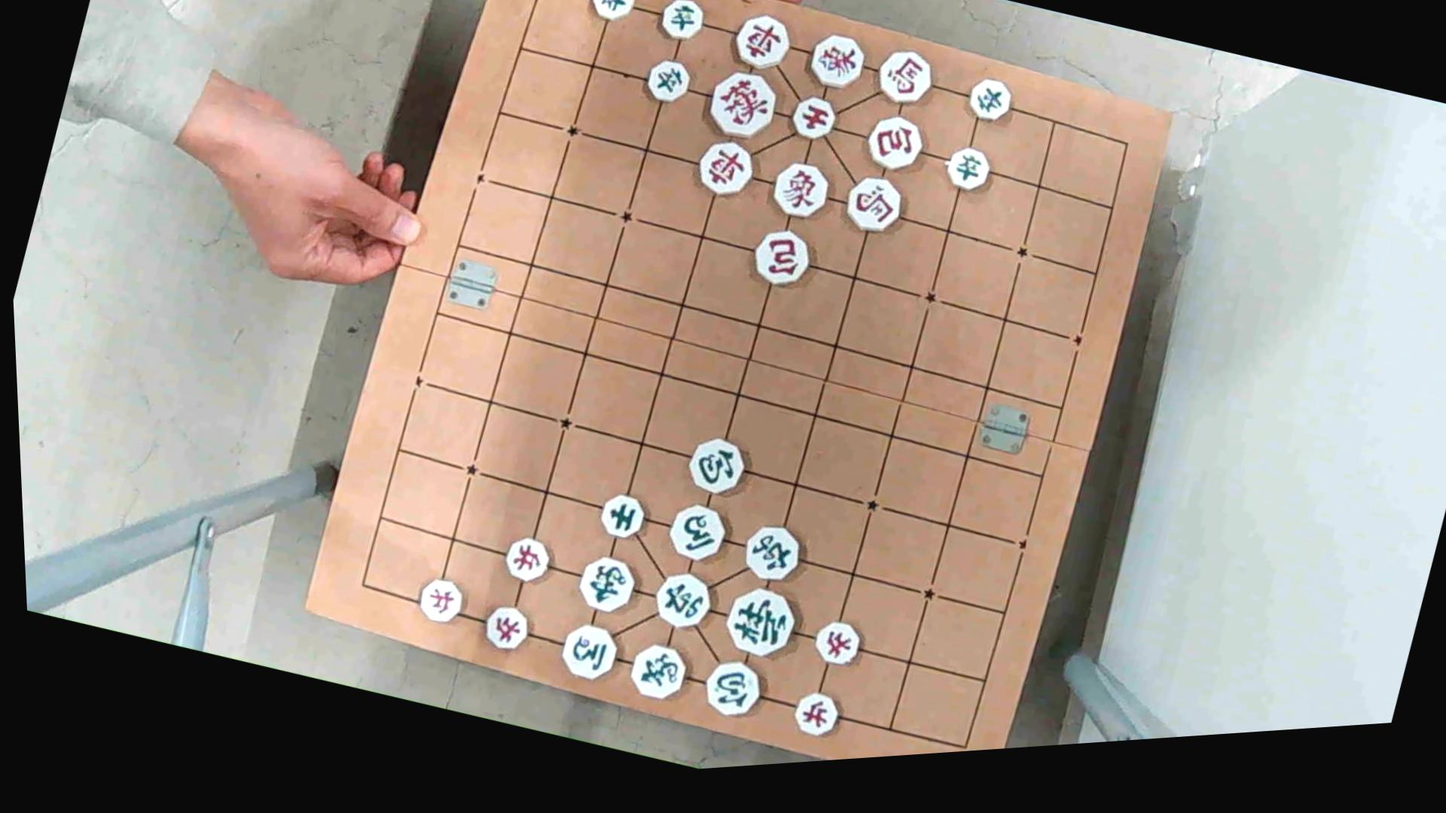cha_green: (736, 519, 807, 588), (647, 567, 717, 635)
cha_red: (728, 7, 797, 78), (691, 137, 760, 203)
jol_green: (640, 57, 695, 110), (941, 145, 996, 196), (962, 75, 1015, 126), (656, 0, 709, 47), (586, 0, 640, 26)
jol_red: (477, 596, 536, 656), (807, 617, 865, 672), (500, 532, 559, 586), (415, 575, 471, 629), (789, 687, 845, 741)
ma_green: (555, 618, 626, 687), (664, 500, 734, 568)
ma_red: (838, 167, 908, 242), (871, 45, 939, 111)
po_green: (683, 434, 754, 503), (697, 656, 767, 723)
po_red: (746, 227, 817, 295), (862, 114, 929, 178)
sa_green: (594, 489, 650, 545)
sa_red: (785, 91, 840, 144)
sang_green: (571, 546, 645, 624), (624, 638, 695, 706)
sang_red: (765, 157, 837, 225), (803, 30, 871, 94)
wang_green: (718, 579, 805, 665)
wang_red: (697, 65, 784, 147)
